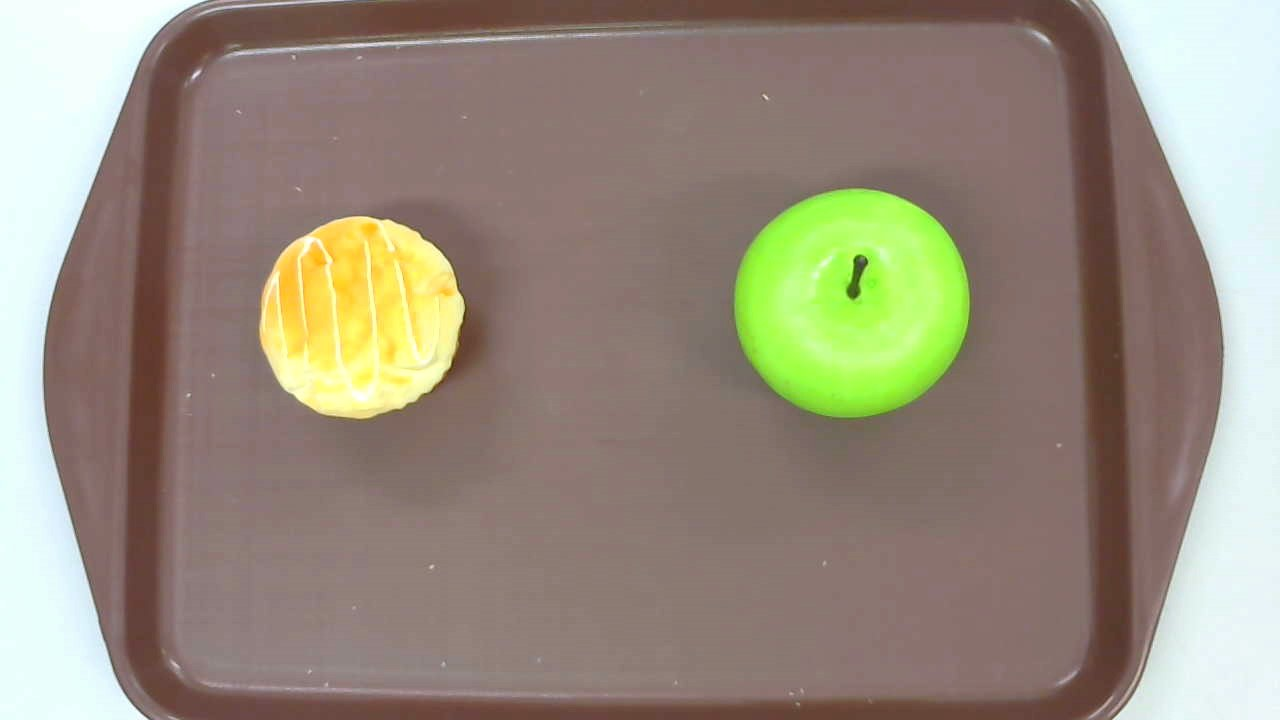cupcake: (257, 216, 466, 420)
green apple: (732, 187, 972, 421)
